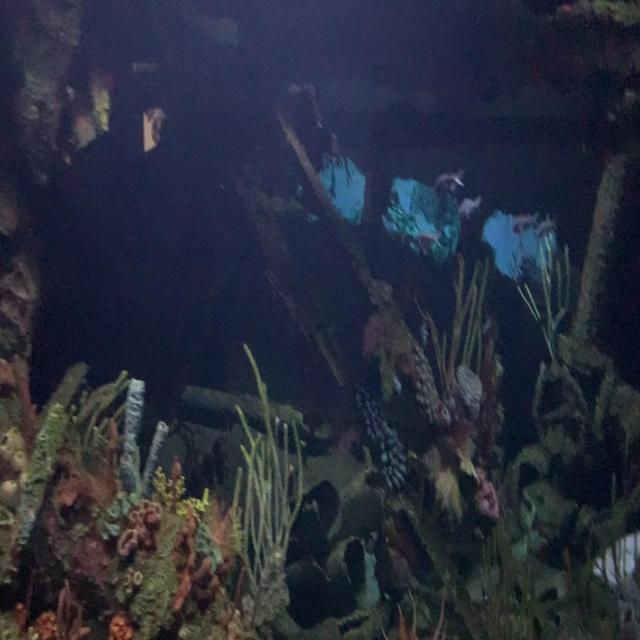fish: (432, 165, 468, 198), (412, 230, 445, 259), (510, 211, 543, 236), (532, 213, 560, 242), (457, 193, 484, 223)
